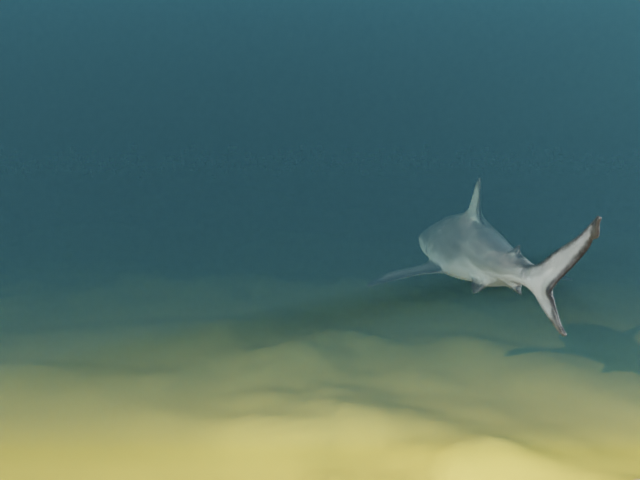Carribean Shark.001: (366, 177, 601, 336)
